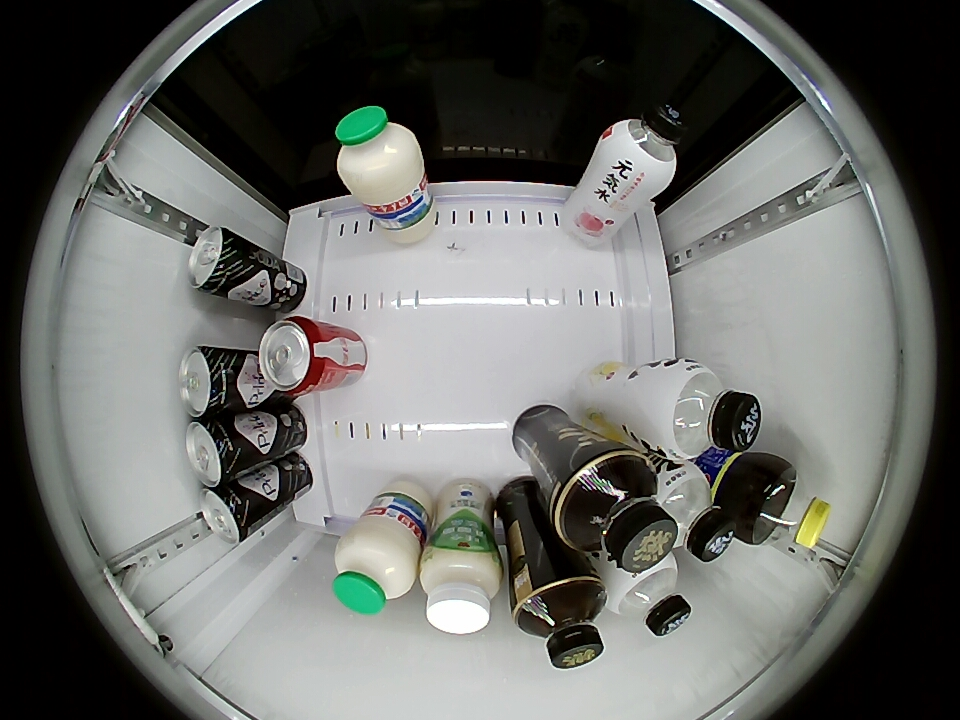baishikele: (748, 465, 832, 550)
kele: (258, 316, 327, 394)
liziyuan: (335, 105, 426, 206), (333, 517, 420, 616)
qingdaowangzi-1: (178, 345, 241, 419), (185, 417, 245, 486), (187, 226, 244, 296), (198, 485, 255, 544)
rancha-1: (555, 452, 680, 572), (512, 575, 607, 670)
yousuanru: (420, 543, 502, 634)
yuanqishui: (648, 360, 762, 461), (652, 462, 736, 562), (597, 100, 687, 193), (603, 555, 692, 636)
